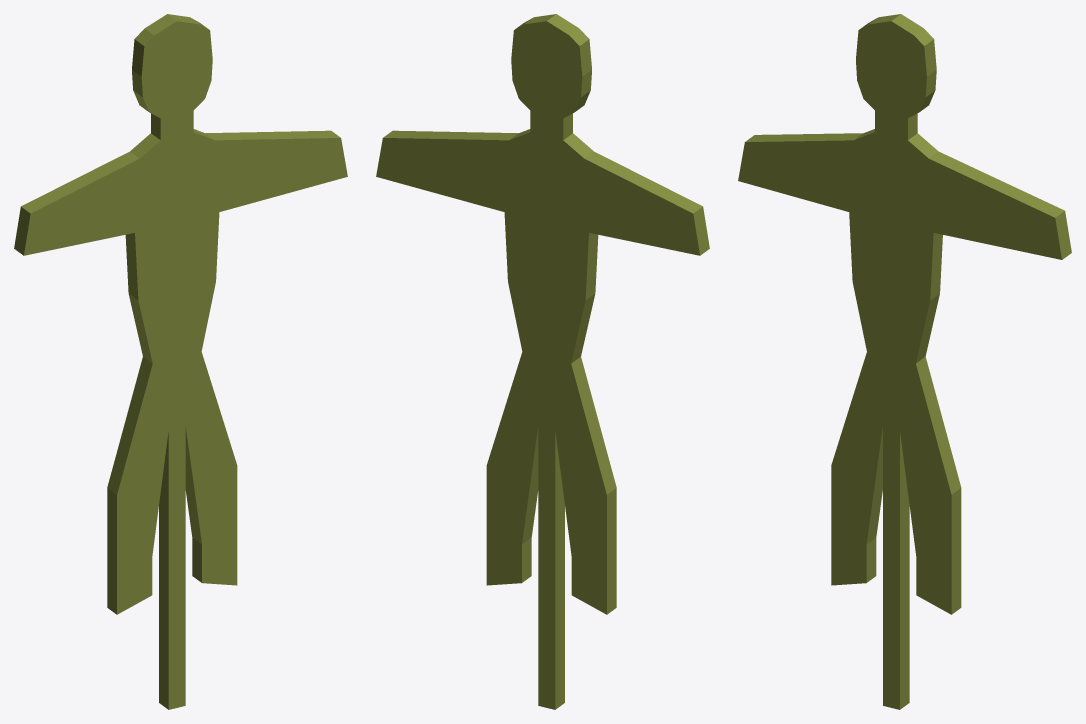
The model's file is scarecrow.fbx.
3 views of the same model, side by side, from view 1: azimuth 30°, elevation 25°; view 2: azimuth 150°, elevation 25°; view 3: azimuth 330°, elevation 25° (orthographic).
Parts seen in each view (by area): view 1: Cube; view 2: Cube; view 3: Cube.
Boxes of the visible parts, x1,y1,x2,y2 form: Cube: (14,14,347,709); Cube: (376,14,709,709); Cube: (738,14,1071,709).
Bounding box in the file's own units: 381 × 772 × 20.
